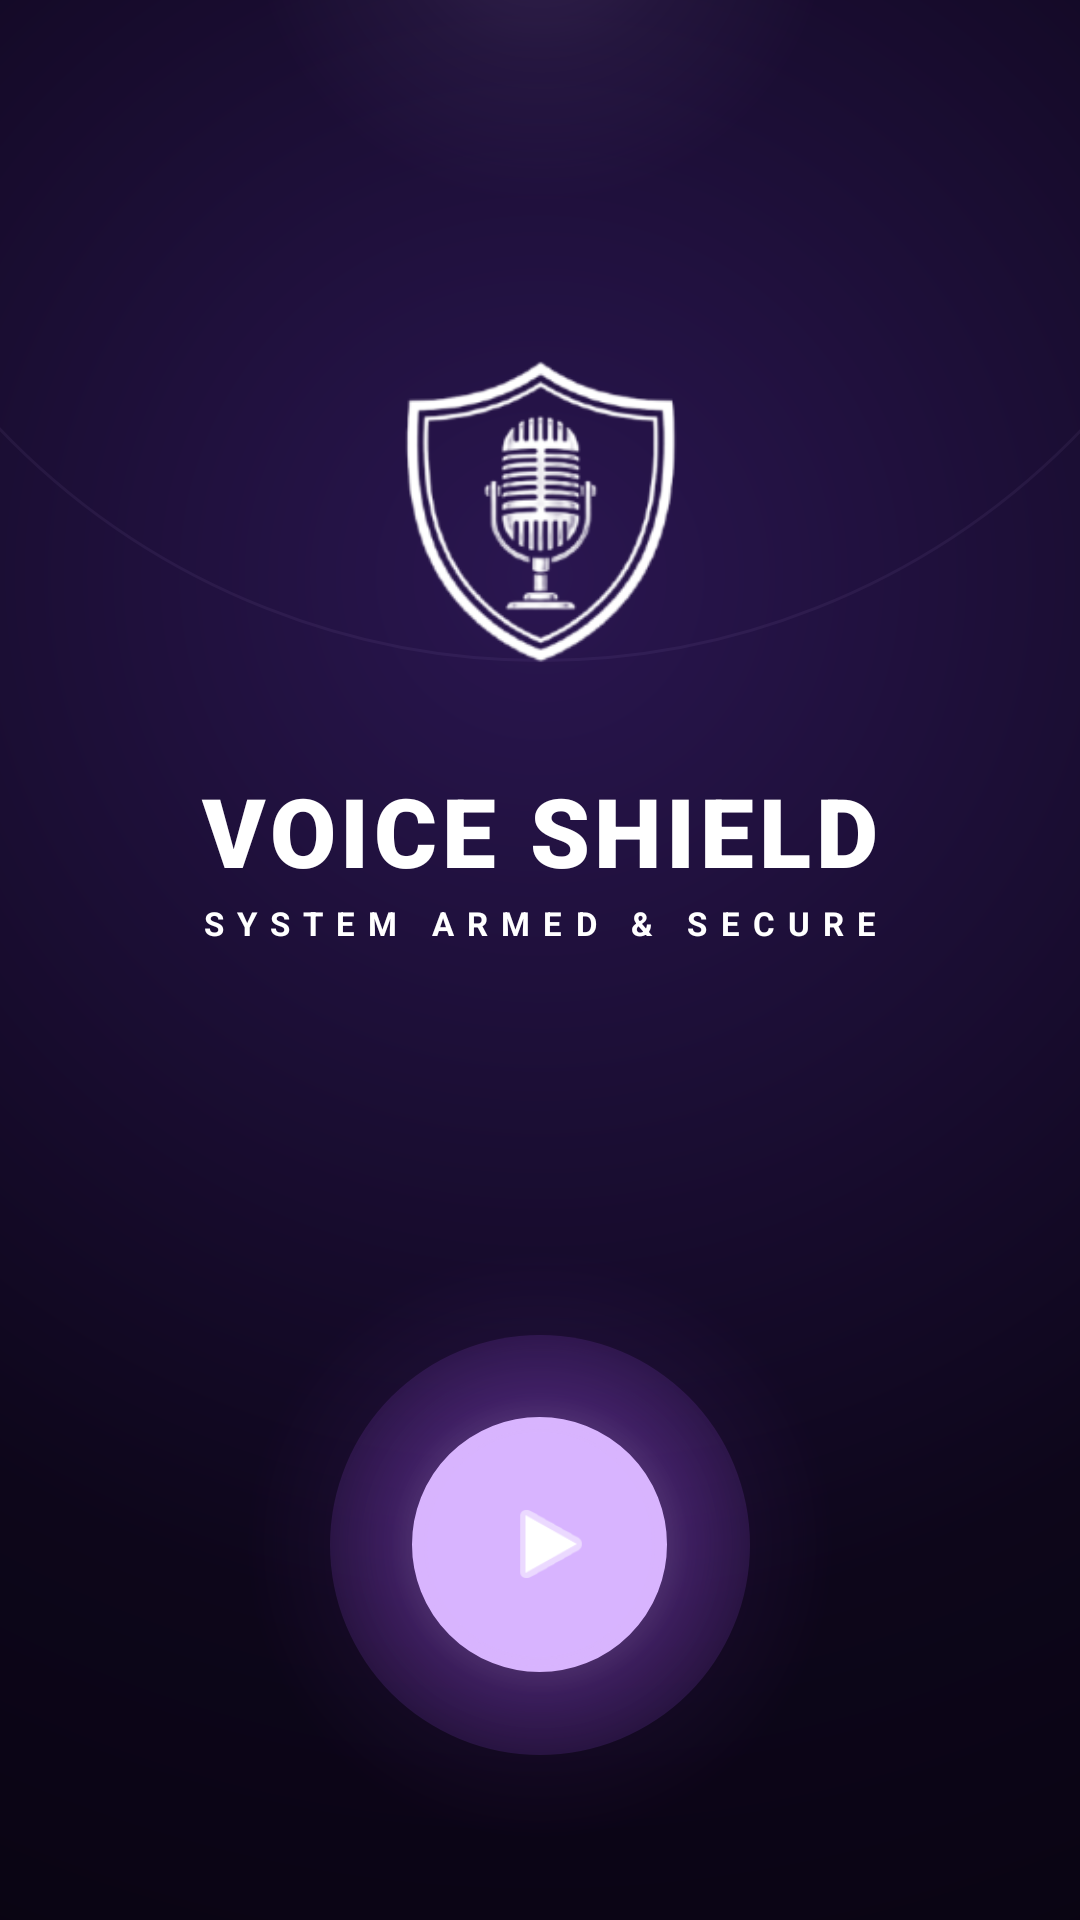

Screen size 1080px x 1920px. Icon name, then its box in pixels as (x1, y1, x2, y2):
play: (520, 1510, 582, 1578)
